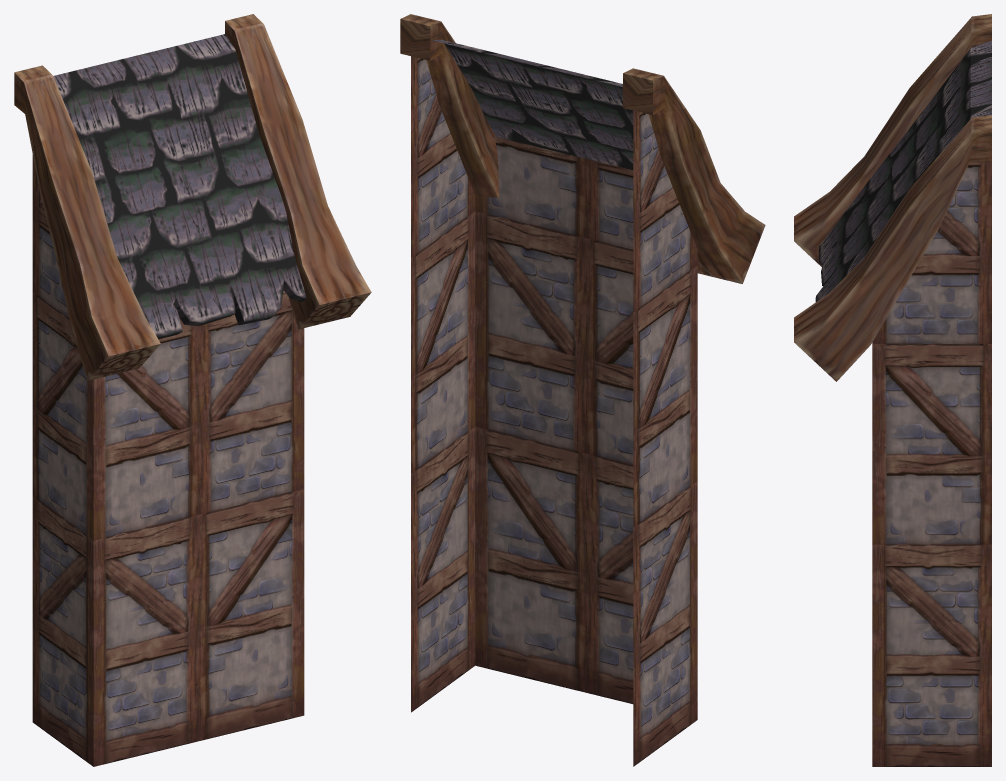
Rendered from wall_roof1x1.fbx.
3 renders of one model, left to right at view 1: azimuth 30°, elevation 25°; view 2: azimuth 150°, elevation 25°; view 3: azimuth 270°, elevation 25°, orthographic. The views are drawn at different scales.
Parts seen in each view (by area): view 1: wall_roof1x1; view 2: wall_roof1x1; view 3: wall_roof1x1.
Boxes of the visible parts, box(x1,y1,x2,y2) form: wall_roof1x1: box(14, 14, 371, 766); wall_roof1x1: box(400, 14, 765, 766); wall_roof1x1: box(794, 14, 991, 766).
Size of the model in its own units: 187 by 445 by 124.
